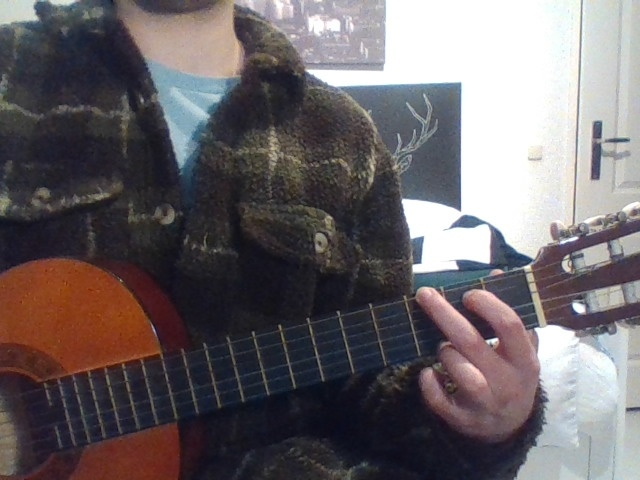G: (395, 267, 573, 460)
